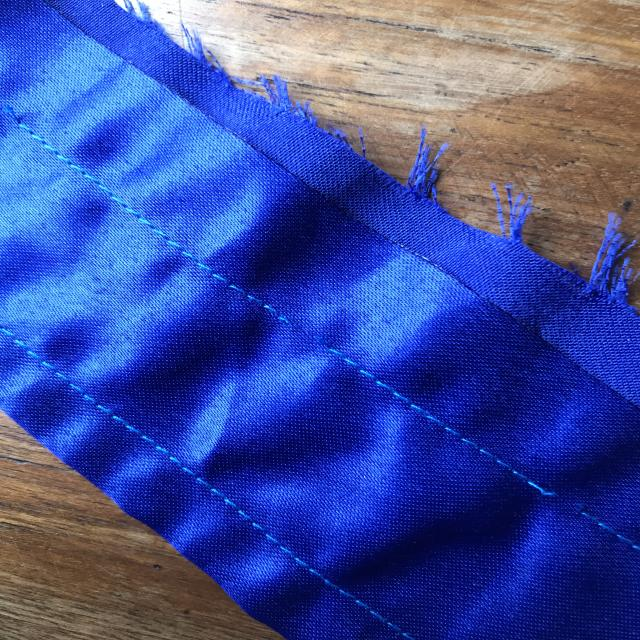broken: (266, 285, 369, 369), (510, 461, 601, 528)
